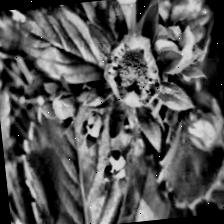Blossom Blight: (102, 33, 164, 110)
